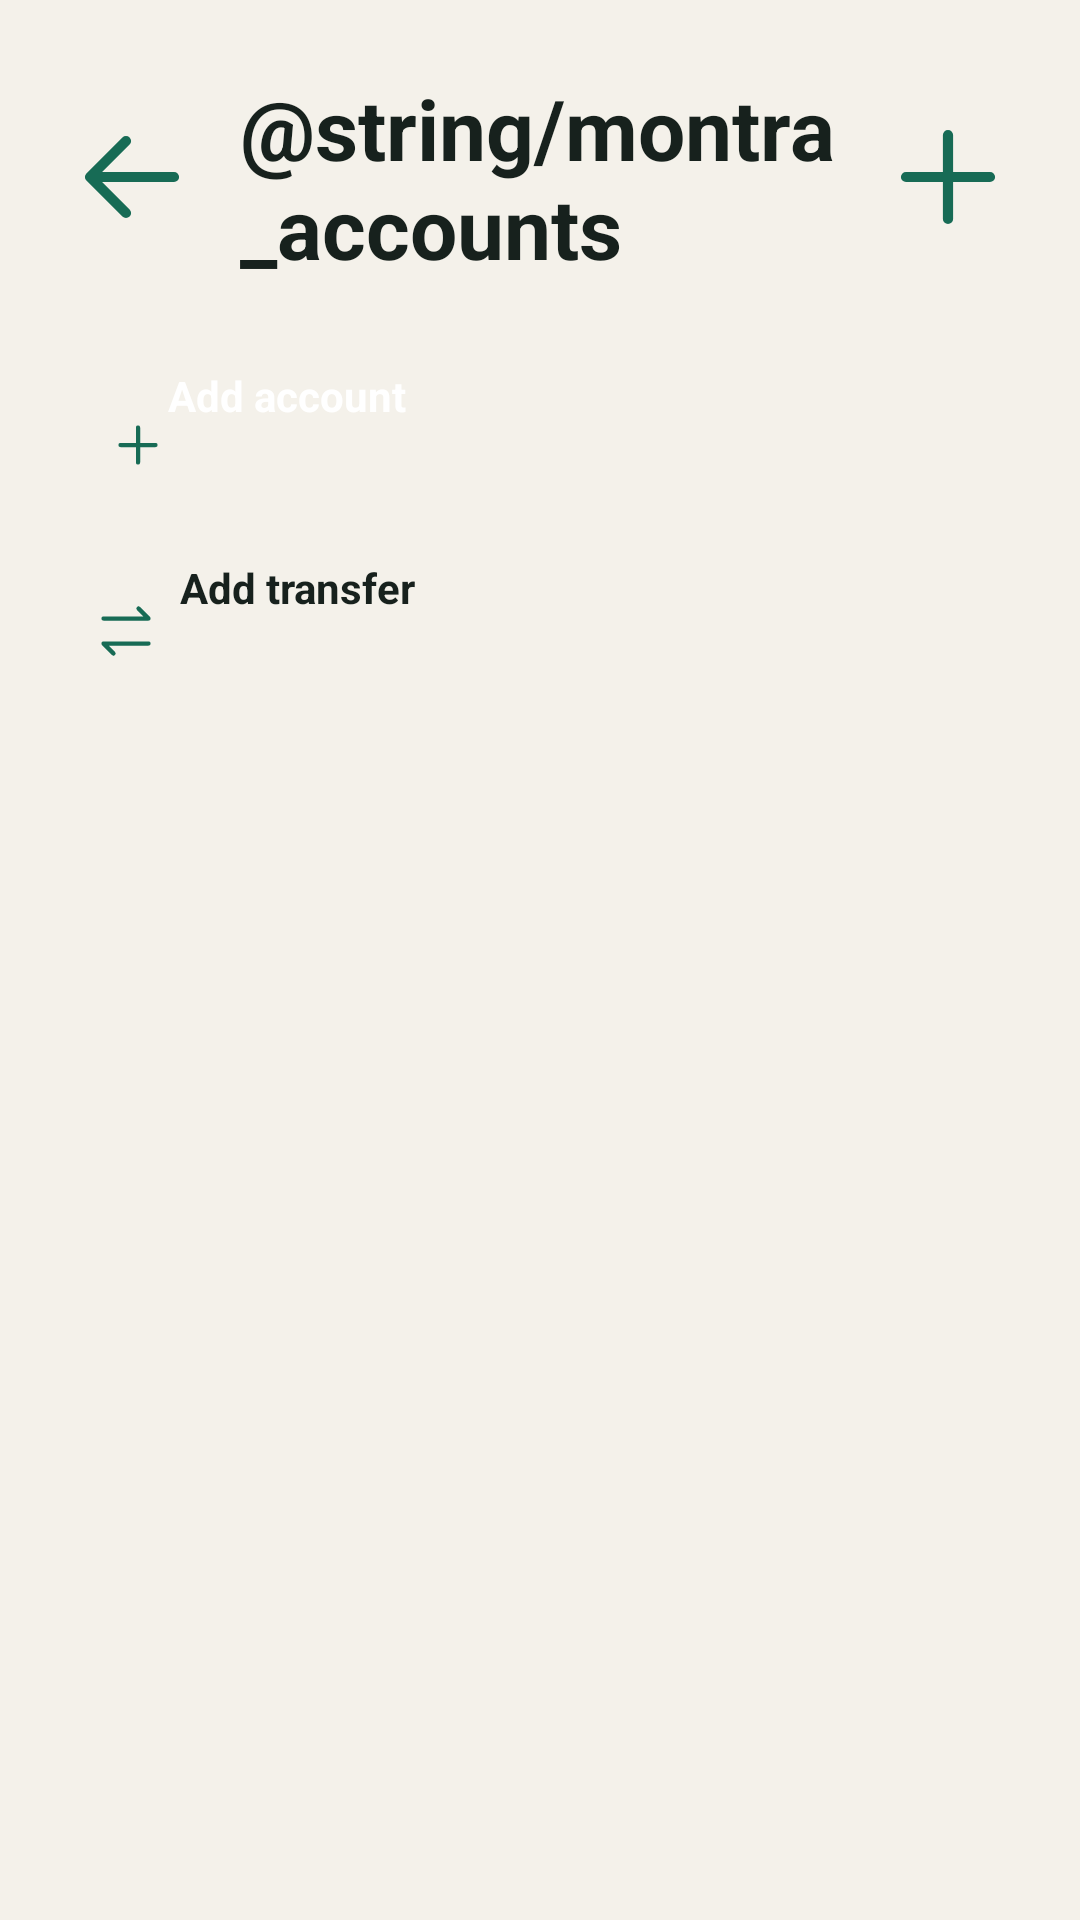

Icons on this 1080 x 1920 Android screen, each with the point to tap as (x=x, y=y):
Back: (x=132, y=177)
